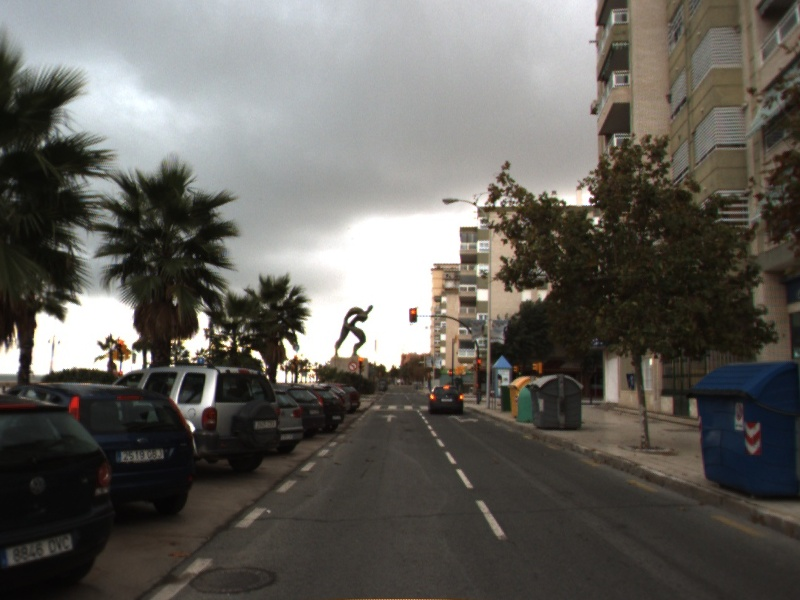STRAIGHT: (380, 412, 399, 423)
STRAIGHT_RIGHT: (446, 412, 481, 425)
